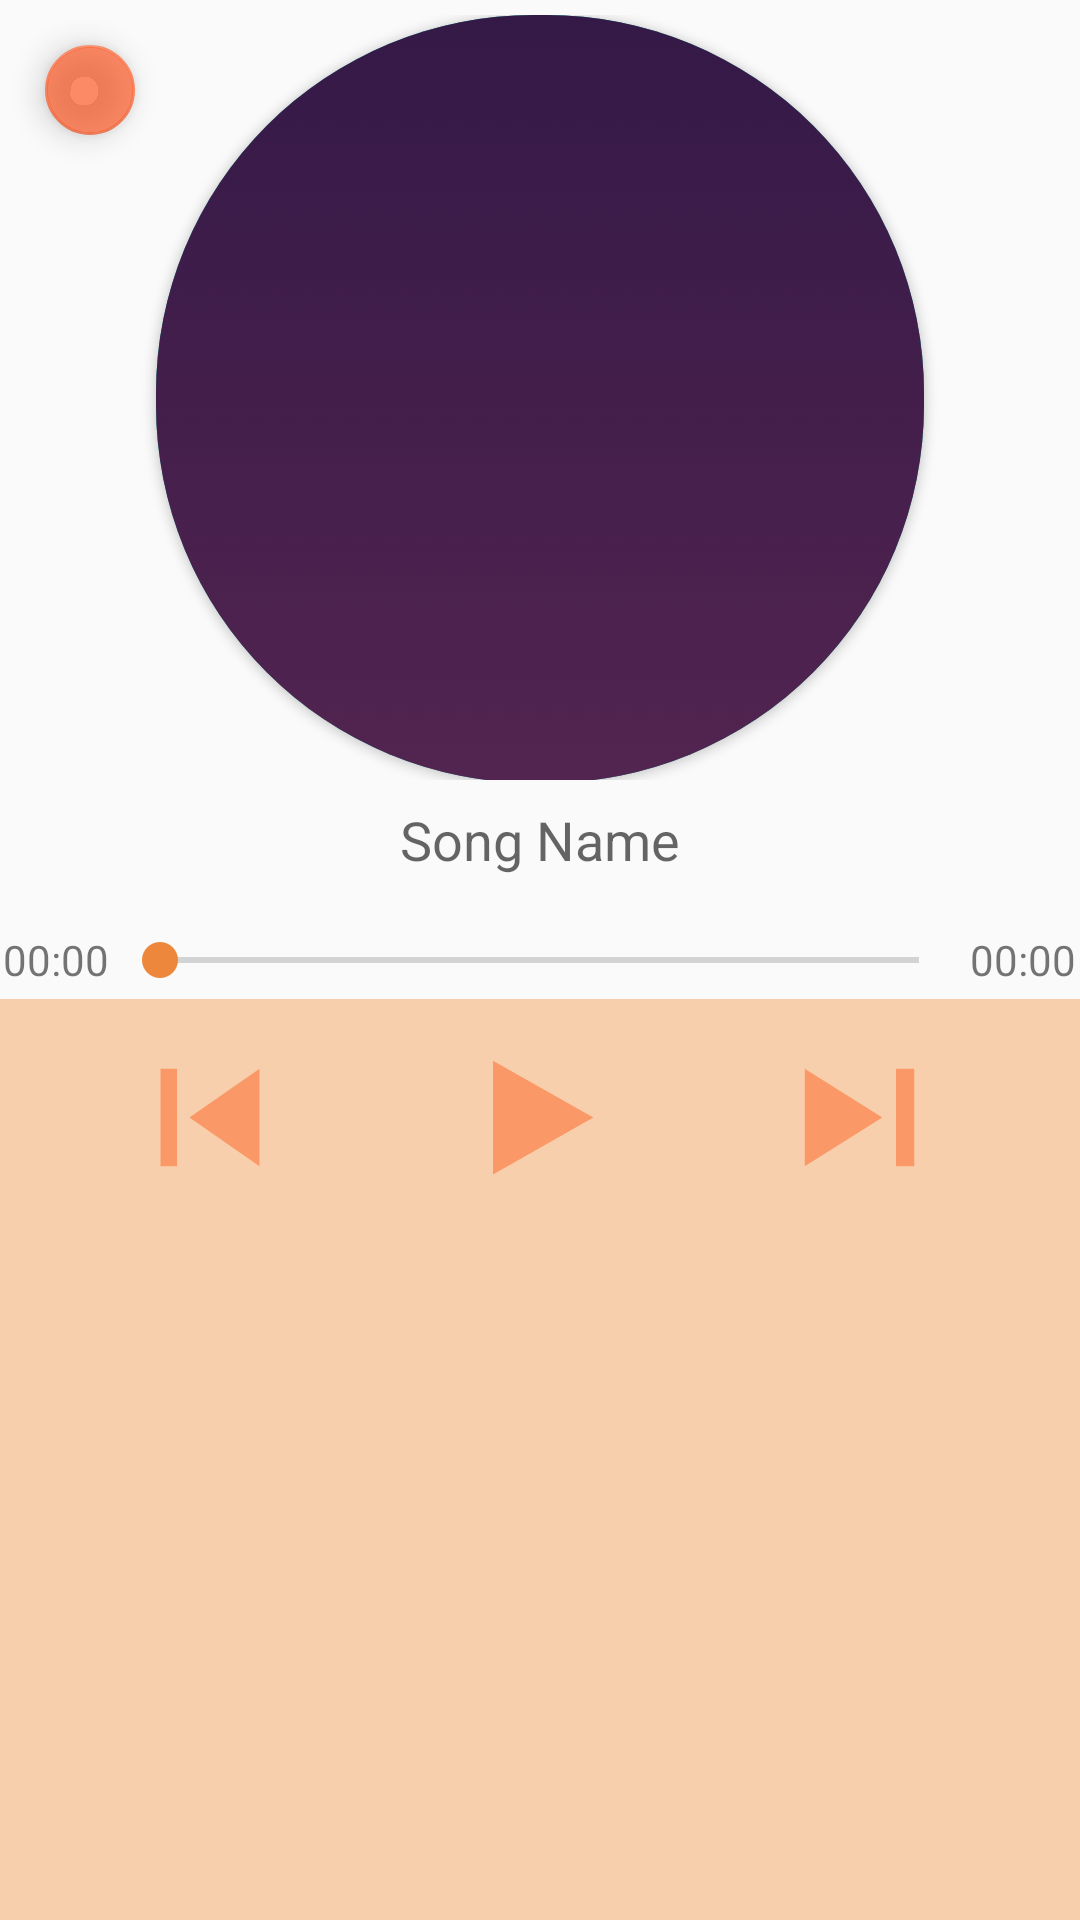

Locate icon controls on the screen. Image size 1080×1920, boxes as box=[x1, y1, x2, y2].
next: box=[805, 1069, 914, 1166]
prev: box=[160, 1069, 260, 1166]
